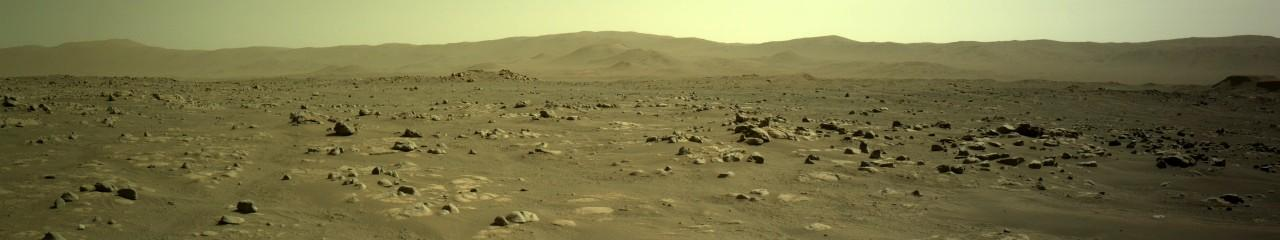bedrock: (5, 81, 915, 238), (925, 231, 1051, 237)
big_rock: (657, 94, 1272, 202), (297, 107, 455, 145), (673, 178, 766, 193), (2, 93, 20, 110)
sand: (927, 194, 1272, 237)
